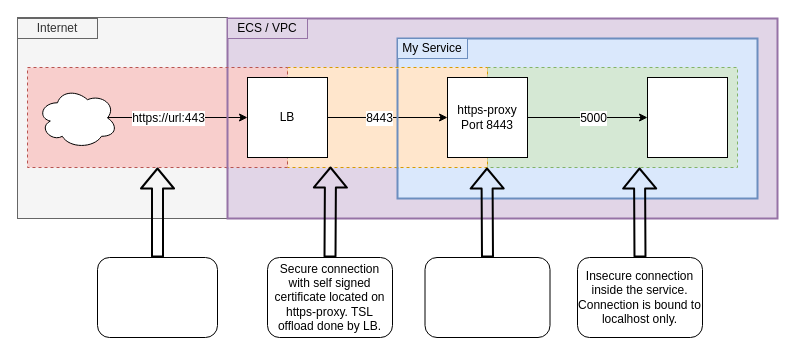
The diagram is 796 pixels wide and 355 high, and some of its shapes have lost their labels. The shapes that lost their labels are listed below. From the top down, each one's box as (x1, y1, x2, y2) in pixels, then its label:
(36, 86, 118, 148): WAN
(646, 76, 728, 158): Application Port 5000
(96, 256, 218, 338): Secure connection with officially signed certificate. TSL offload done by LB.
(424, 256, 550, 338): Login to access the internal container.
